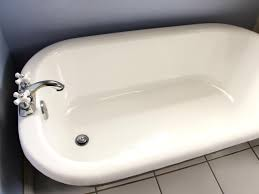bathub: (5, 21, 259, 194)
